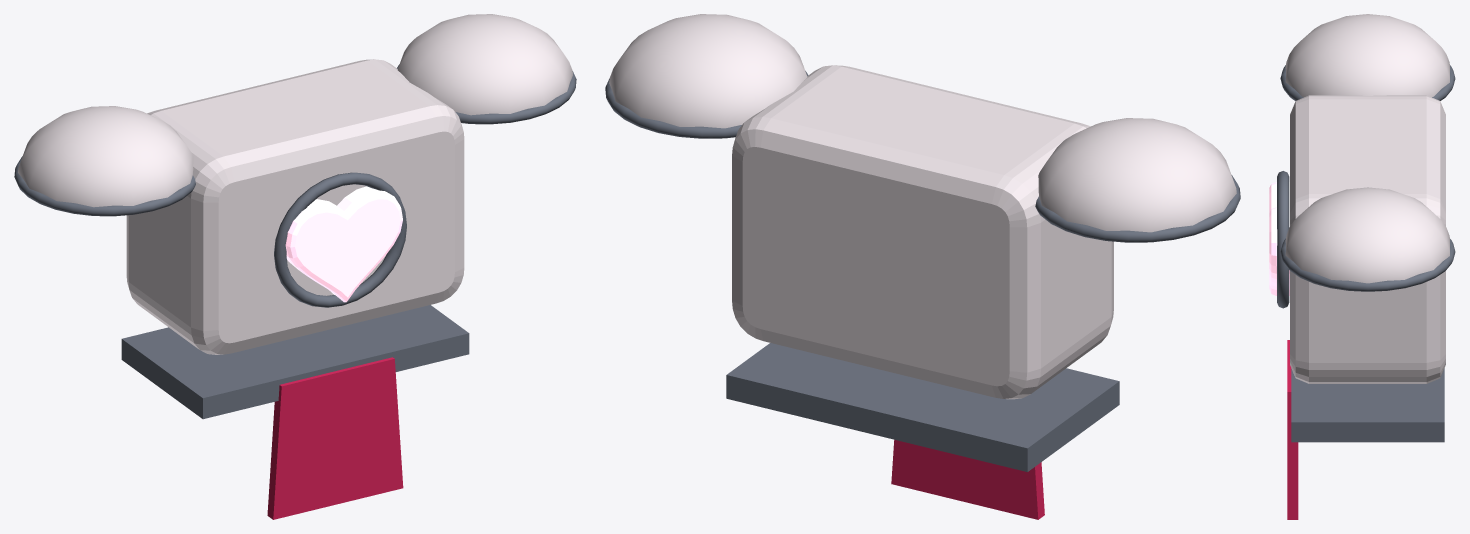
Rendered from eqf_eqmo0.glb.
3 views of the same model, side by side, from view 1: azimuth 30°, elevation 25°; view 2: azimuth 150°, elevation 25°; view 3: azimuth 270°, elevation 25° (orthographic). The views are drawn at different scales.
Size of the model in its own units: 4.28 by 3.05 by 1.36.
